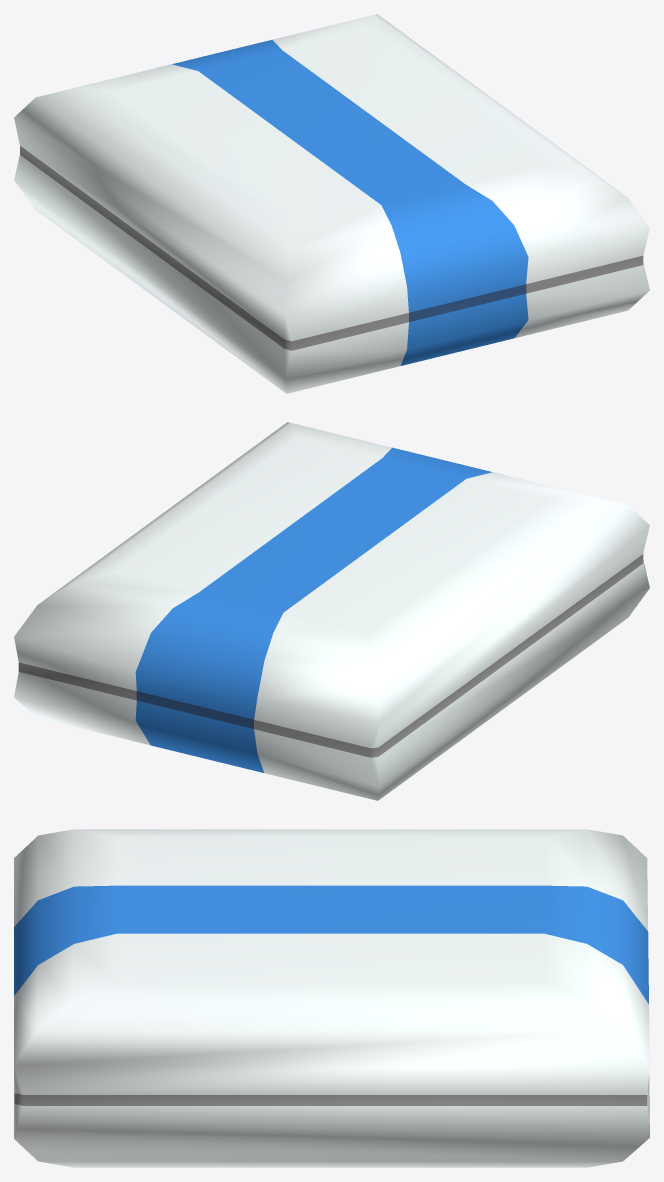
File: BeachTowelStackBlue.glb
The picture shows the model from 3 angles, top to bottom: view 1: azimuth 30°, elevation 25°; view 2: azimuth 150°, elevation 25°; view 3: azimuth 270°, elevation 25°; orthographic projection. The views are drawn at different scales.
Parts seen in each view (by area): view 1: BeachTowelStackBlue; view 2: BeachTowelStackBlue; view 3: BeachTowelStackBlue.
Boxes of the visible parts, left/top/right/bottom form: BeachTowelStackBlue: left=14, top=14, right=649, bottom=393; BeachTowelStackBlue: left=14, top=422, right=649, bottom=800; BeachTowelStackBlue: left=14, top=829, right=649, bottom=1167.
Size of the model in its own units: 0.268 by 0.107 by 0.3471.
Materials: 1 (1 with a texture image).
